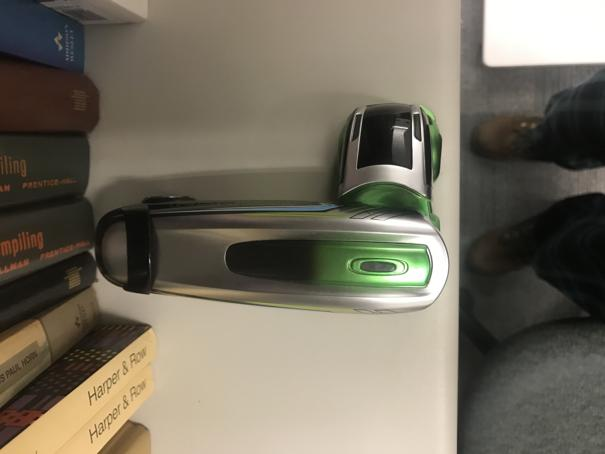Freewheel: (94, 104, 450, 314)
